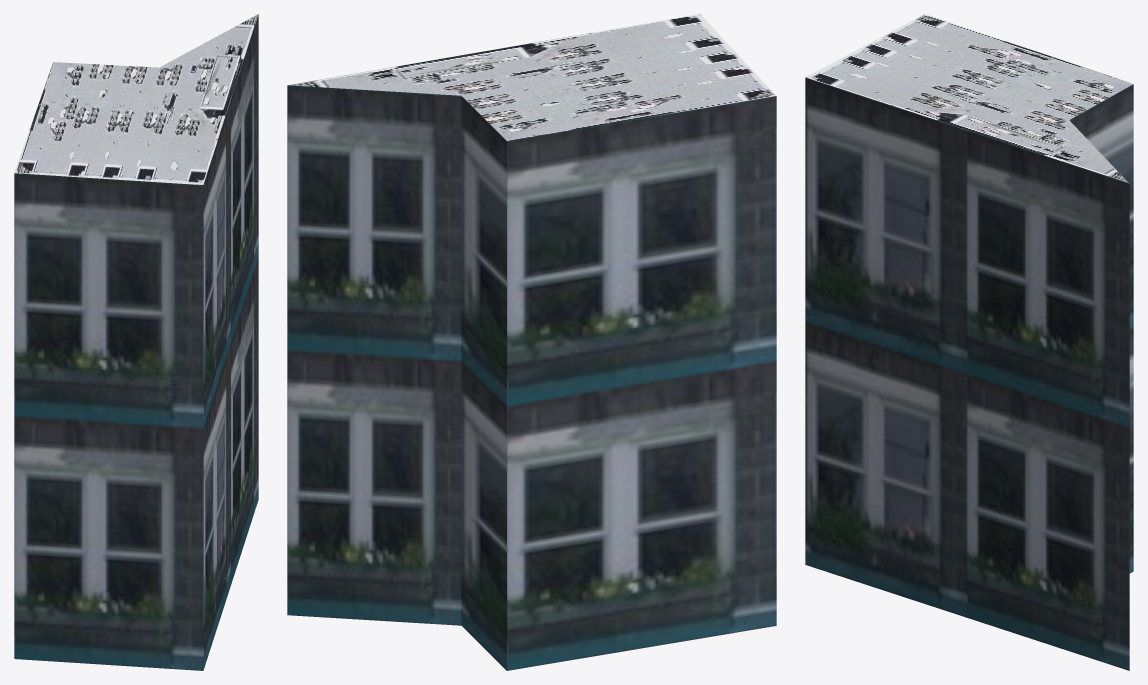
Rendered from ResTex__1964.fbx.
3 renders of one model, left to right at view 1: azimuth 30°, elevation 25°; view 2: azimuth 150°, elevation 25°; view 3: azimuth 270°, elevation 25°, orthographic. The views are drawn at different scales.
Visible parts, largest first — view 1: CityEngineMaterial_11_m, CityEngineMaterial_8_m; view 2: CityEngineMaterial_11_m, CityEngineMaterial_8_m; view 3: CityEngineMaterial_11_m, CityEngineMaterial_8_m.
Boxes of the visible parts, box(x1,y1,x2,y2) form: CityEngineMaterial_11_m: box(14, 14, 258, 670); CityEngineMaterial_8_m: box(14, 14, 258, 184); CityEngineMaterial_11_m: box(287, 85, 776, 670); CityEngineMaterial_8_m: box(288, 14, 775, 140); CityEngineMaterial_11_m: box(805, 77, 1133, 670); CityEngineMaterial_8_m: box(805, 14, 1132, 183).
Size of the model in its own units: 4.48 by 6 by 3.66.
Materials: 2 (2 with a texture image).
